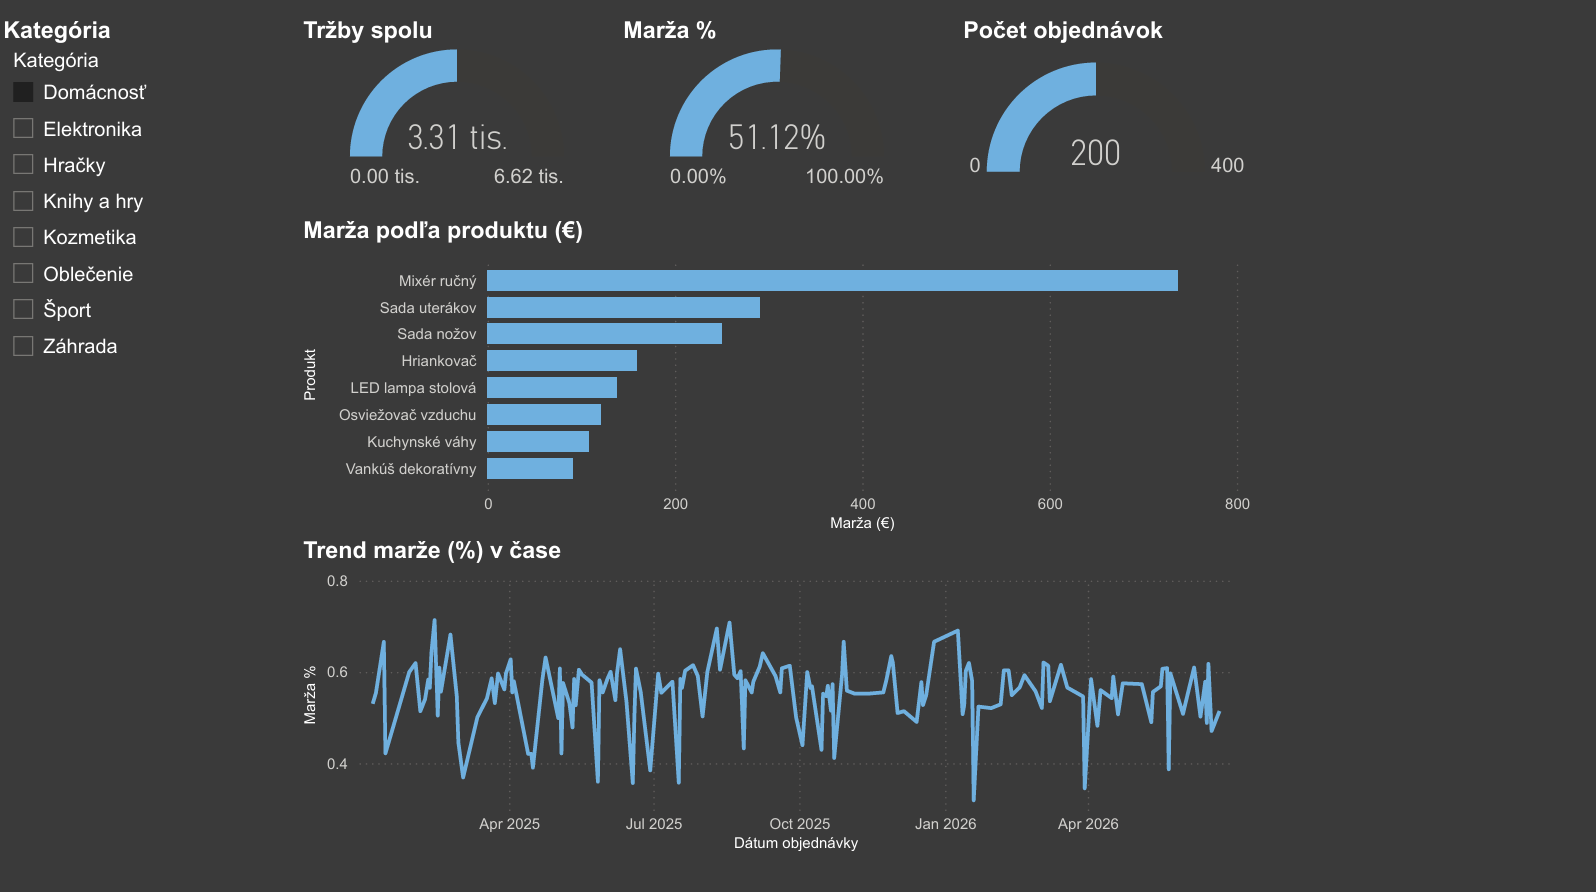

What the dashboard file says about the page in this screenshot:
{"tool":"powerbi","page":{"name":"Cenotvorba a marža","canvas":[1280,720],"ordinal":2},"visuals":[{"type":"slicer","title":"Kategória","fields":{"Values":["Categories.CategoryName"]},"box":[0,16,224,640],"z":0},{"type":"gauge","title":"Tržby spolu","fields":{"Y":["Orders.Total Revenue"]},"box":[240,16,256,144],"z":1000},{"type":"gauge","title":"Marža %","fields":{"Y":["Order Details.Margin %"]},"box":[496,16,256,144],"z":2000},{"type":"gauge","title":"Počet objednávok","fields":{"Y":["Categories.Total Orders"]},"box":[768,16,240,144],"z":3000},{"type":"clusteredBarChart","title":"Marža podľa produktu (€)","fields":{"Category":["Products.ProductName"],"Y":["Sum(Order Details.MarginEUR (€))"]},"box":[240,176,768,256],"z":4000},{"type":"lineChart","title":"Trend marže (%) v čase","fields":{"Y":["Order Details.Margin %"],"Category":["Orders.OrderDate"]},"box":[240,432,768,256],"z":5000}]}

Visuals, with their boxes in screenshot pixels (x1, y1, x2, y2), scaled from the page's 1280x720 canvas onto the 1596x892 screenshot:
"Kategória" slicer: [0,20,279,813]
"Tržby spolu" gauge: [299,20,618,198]
"Marža %" gauge: [618,20,938,198]
"Počet objednávok" gauge: [958,20,1257,198]
"Marža podľa produktu (€)" clusteredBarChart: [299,218,1257,535]
"Trend marže (%) v čase" lineChart: [299,535,1257,852]
